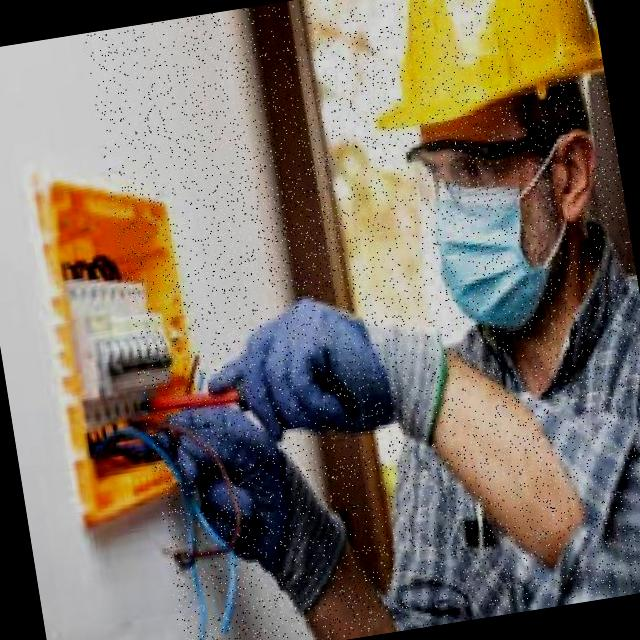gloves: (142, 364, 391, 598), (224, 281, 403, 485)
helmet: (360, 0, 610, 143)
no-vest: (356, 247, 640, 629)
